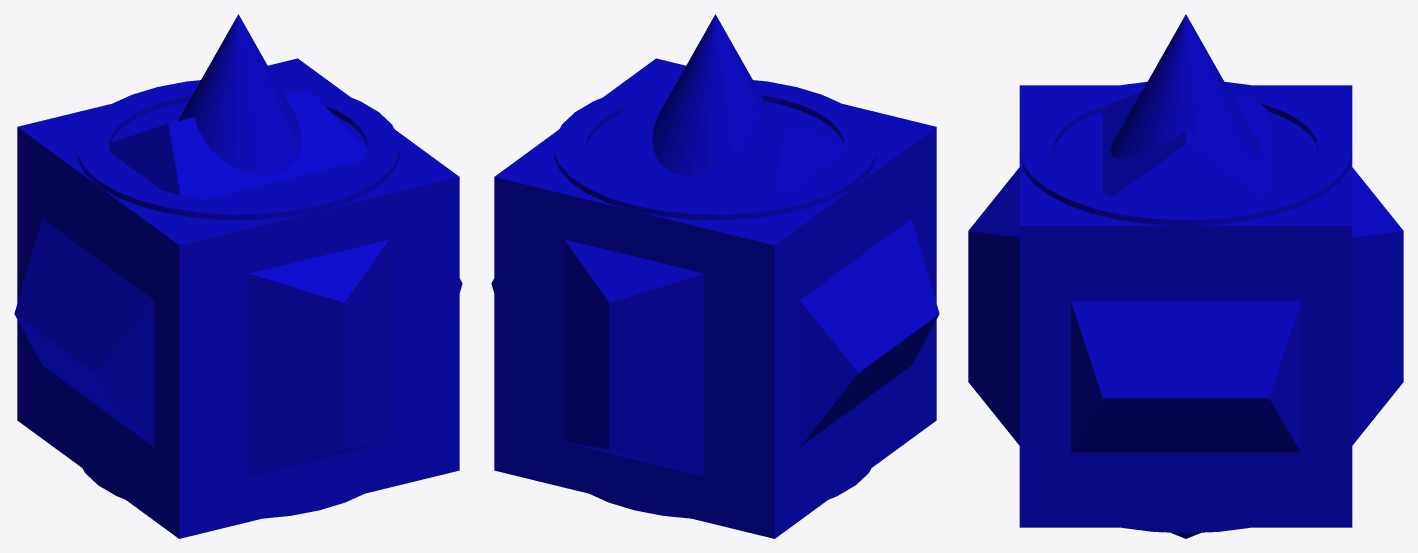
Rendered from pentagon_cylinder.obj.
3 views of the same model, side by side, from view 1: azimuth 30°, elevation 25°; view 2: azimuth 150°, elevation 25°; view 3: azimuth 270°, elevation 25° (orthographic). The views are drawn at different scales.
Parts seen in each view (by area): view 1: cube_Cube.001, dodecahedron_Cube.002, hollow_cylinder_Cylinder.001, cone_Cone, pentagon_cylinder_Cylinder.003; view 2: cube_Cube.001, dodecahedron_Cube.002, hollow_cylinder_Cylinder.001, cone_Cone, hexagon_cylinder_Cylinder.002, Cylinder; view 3: cube_Cube.001, dodecahedron_Cube.002, hollow_cylinder_Cylinder.001, cone_Cone, pentagon_cylinder_Cylinder.003, hexagon_cylinder_Cylinder.002, Cylinder.
Part boxes in pixels (x1,y1,x2,y2): cube_Cube.001: (17, 58, 459, 538); dodecahedron_Cube.002: (14, 89, 462, 476); hollow_cylinder_Cylinder.001: (77, 80, 399, 518); cone_Cone: (178, 14, 301, 175); pentagon_cylinder_Cylinder.003: (110, 102, 366, 191); cube_Cube.001: (494, 58, 936, 538); dodecahedron_Cube.002: (491, 89, 939, 476); hollow_cylinder_Cylinder.001: (554, 80, 876, 518); cone_Cone: (652, 14, 775, 175); hexagon_cylinder_Cylinder.002: (586, 102, 821, 200); Cylinder: (604, 102, 843, 200); cube_Cube.001: (1019, 85, 1352, 527); dodecahedron_Cube.002: (968, 91, 1403, 538); hollow_cylinder_Cylinder.001: (1019, 81, 1352, 533); cone_Cone: (1110, 14, 1261, 158); pentagon_cylinder_Cylinder.003: (1054, 112, 1318, 205); hexagon_cylinder_Cylinder.002: (1053, 112, 1314, 216); Cylinder: (1053, 112, 1304, 205).
Size of the model in its own units: 2.62 by 3.25 by 2.62.
